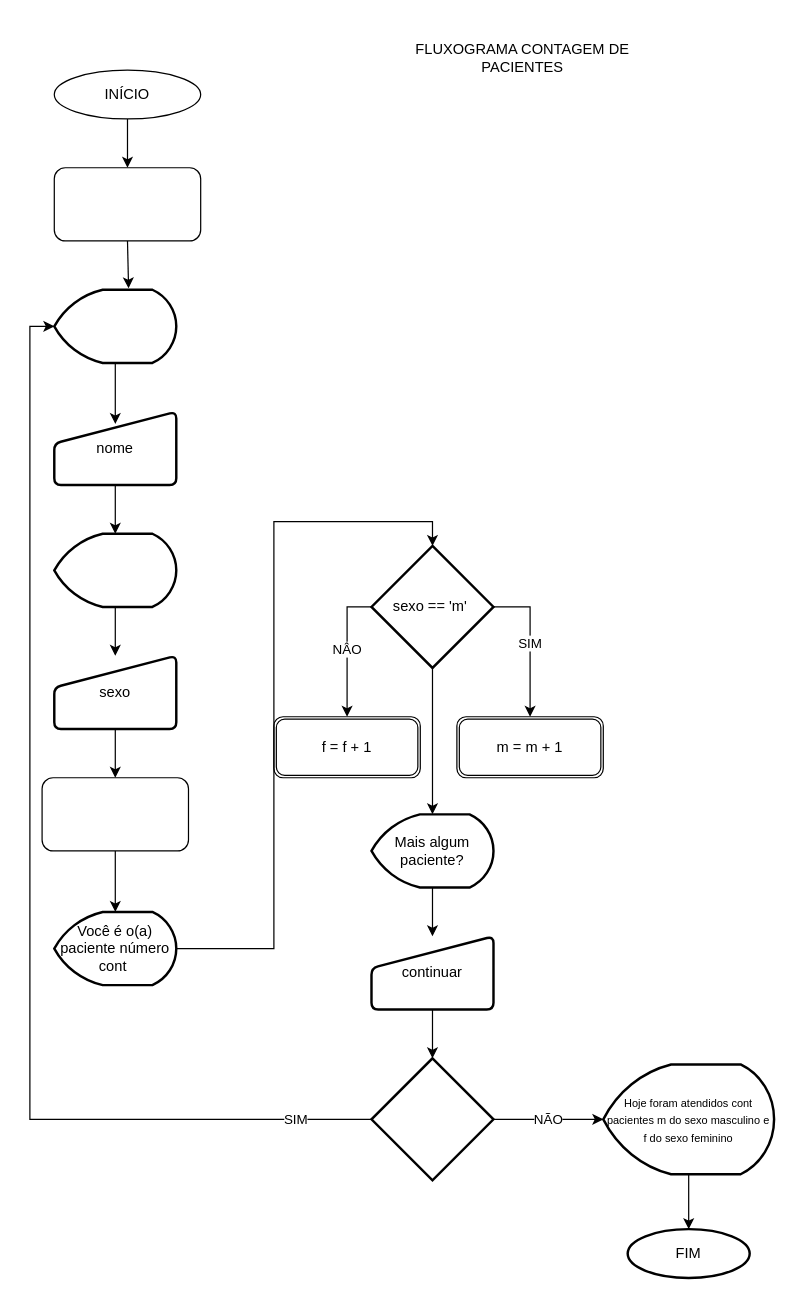
The diagram is 797 pixels wide and 1299 high, and some of its shapes have lost their labels. Here are the shapes that lost their labels. From the top down, the centre of each, then its label:
At (x=127, y=204): "cont = 0; m = 0; f = 0;".
At (x=114, y=326): "Qual o seu nome?".
At (x=114, y=570): "Qual o seu sexo 'm' ou 'f'?".
At (x=114, y=814): "cont = cont + 1".
At (x=432, y=1119): "continuar == ' s'".
